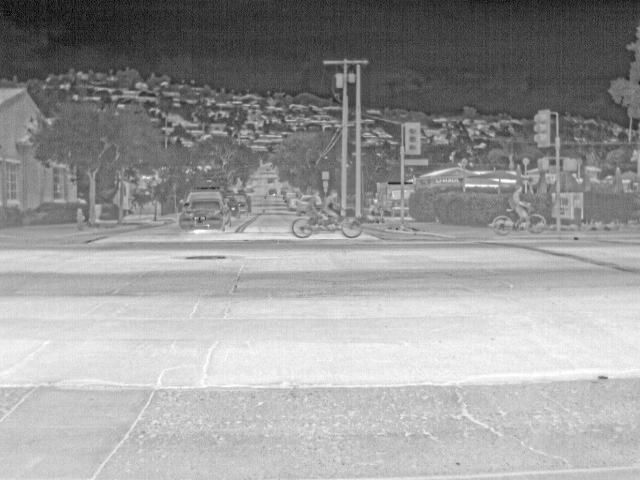car: (178, 188, 235, 232), (374, 178, 401, 215), (235, 192, 251, 213), (226, 196, 240, 218), (298, 194, 311, 209), (287, 199, 299, 212), (267, 187, 277, 197), (282, 187, 292, 197), (286, 194, 296, 204), (244, 183, 254, 193)
person: (508, 182, 527, 231), (306, 187, 323, 228), (324, 188, 338, 234)
